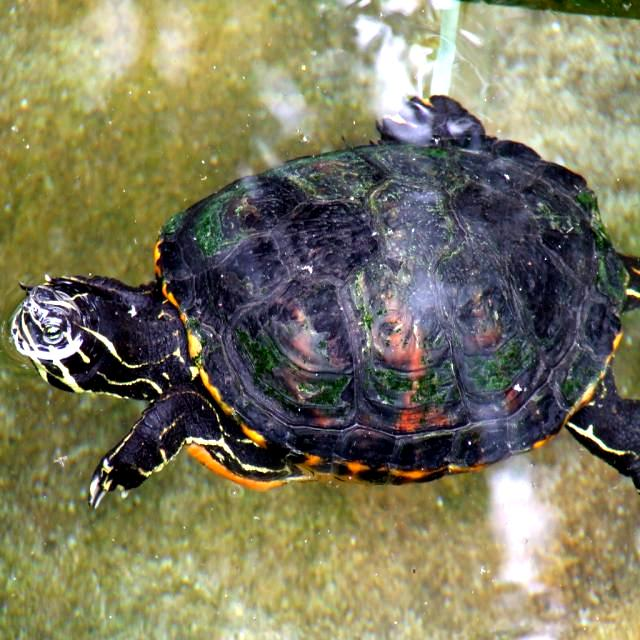Sea turtle: (10, 94, 640, 511)
